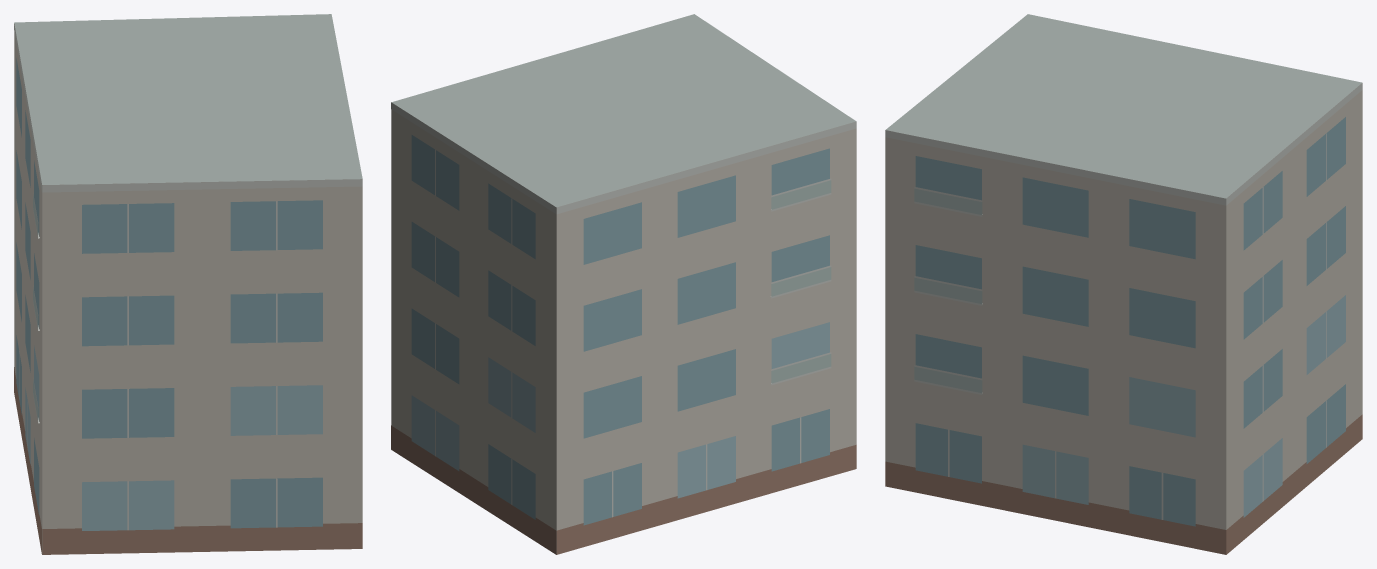
File: survey-upis-32664005.glb
The picture shows the model from 3 angles, left to right: view 1: azimuth 30°, elevation 25°; view 2: azimuth 150°, elevation 25°; view 3: azimuth 270°, elevation 25°; orthographic projection. The views are drawn at different scales.
Parts seen in each view (by area): view 1: survey-upis-32664005.tmp; view 2: survey-upis-32664005.tmp; view 3: survey-upis-32664005.tmp.
Part boxes in pixels (box(x1,y1,x2,y2)): survey-upis-32664005.tmp: box(14, 14, 362, 554); survey-upis-32664005.tmp: box(391, 14, 856, 554); survey-upis-32664005.tmp: box(885, 14, 1362, 554).
Bounding box in the file's own units: 13.56 × 12.2 × 14.82.
